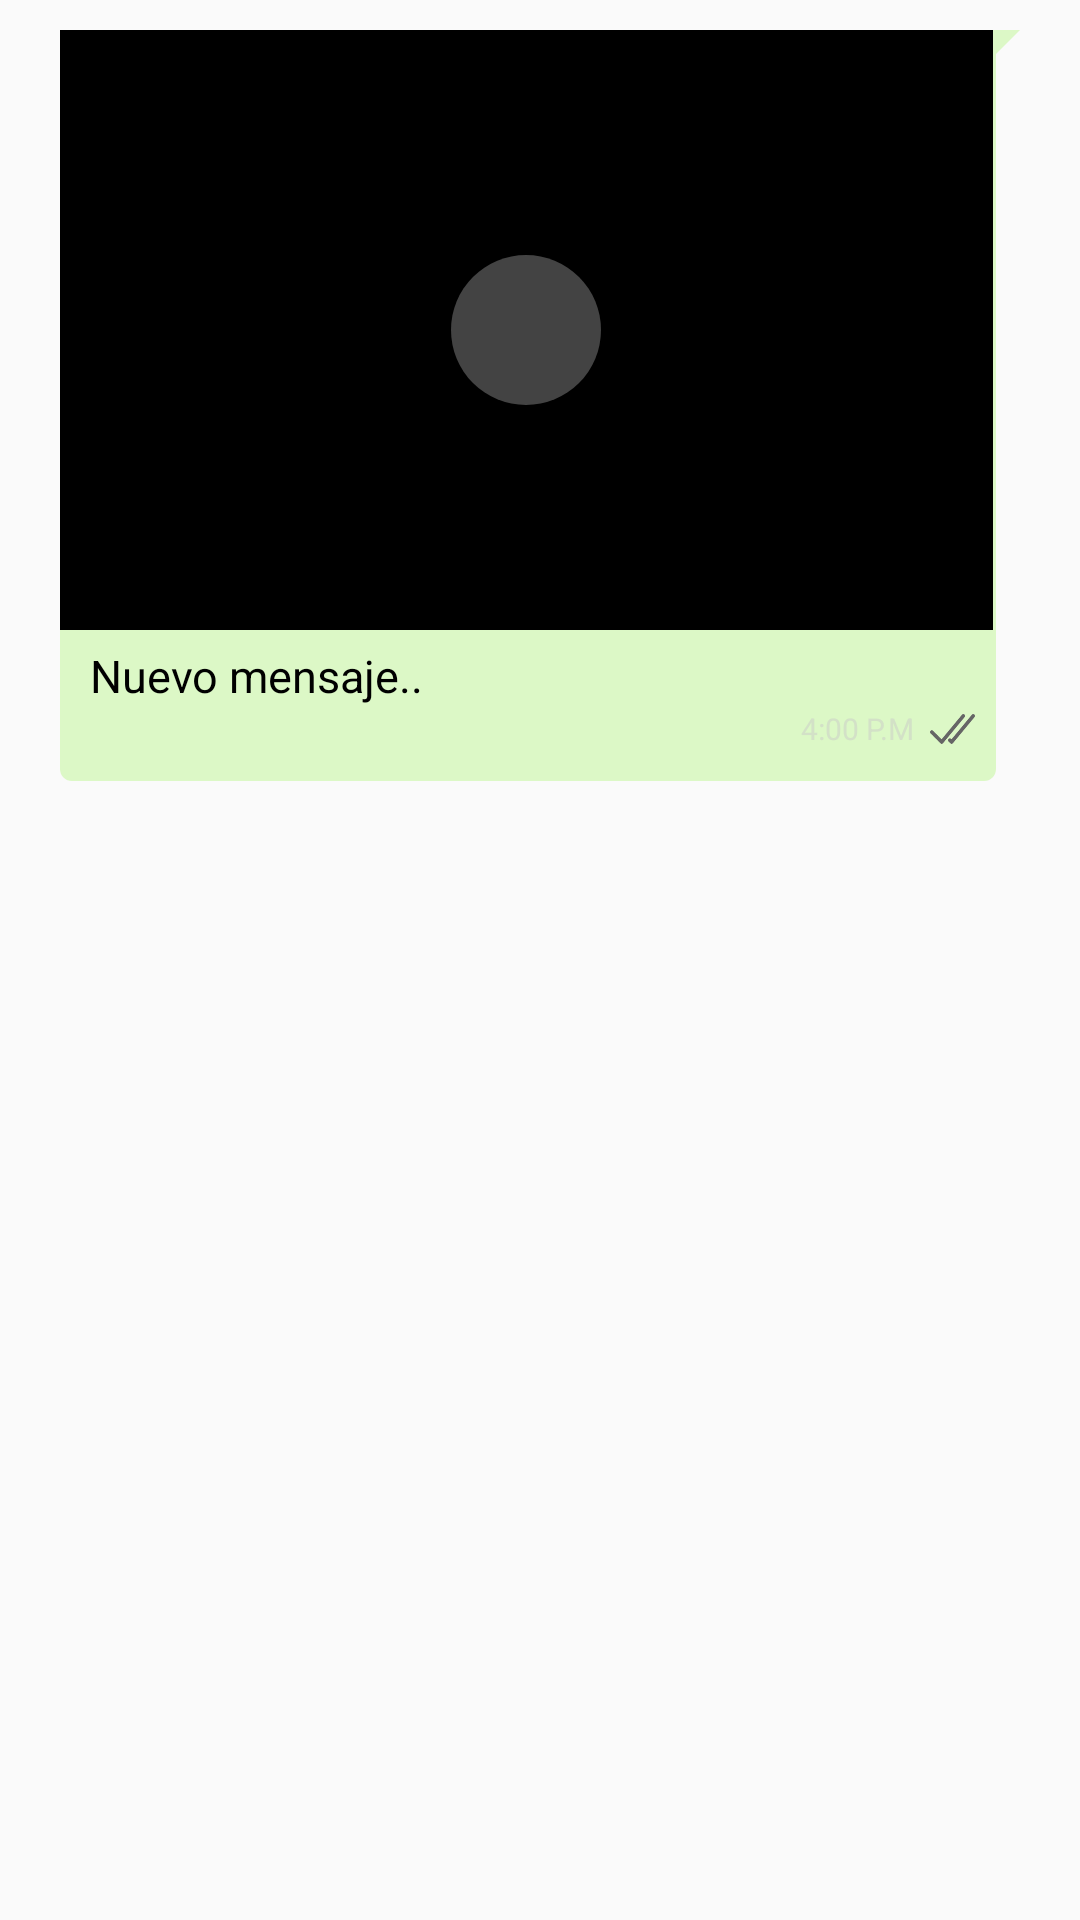

Named icons in this screenshot (1080px×1920px) and their bounding boxes, (x1, y1, x2, y2):
double check: (930, 714, 975, 744)
